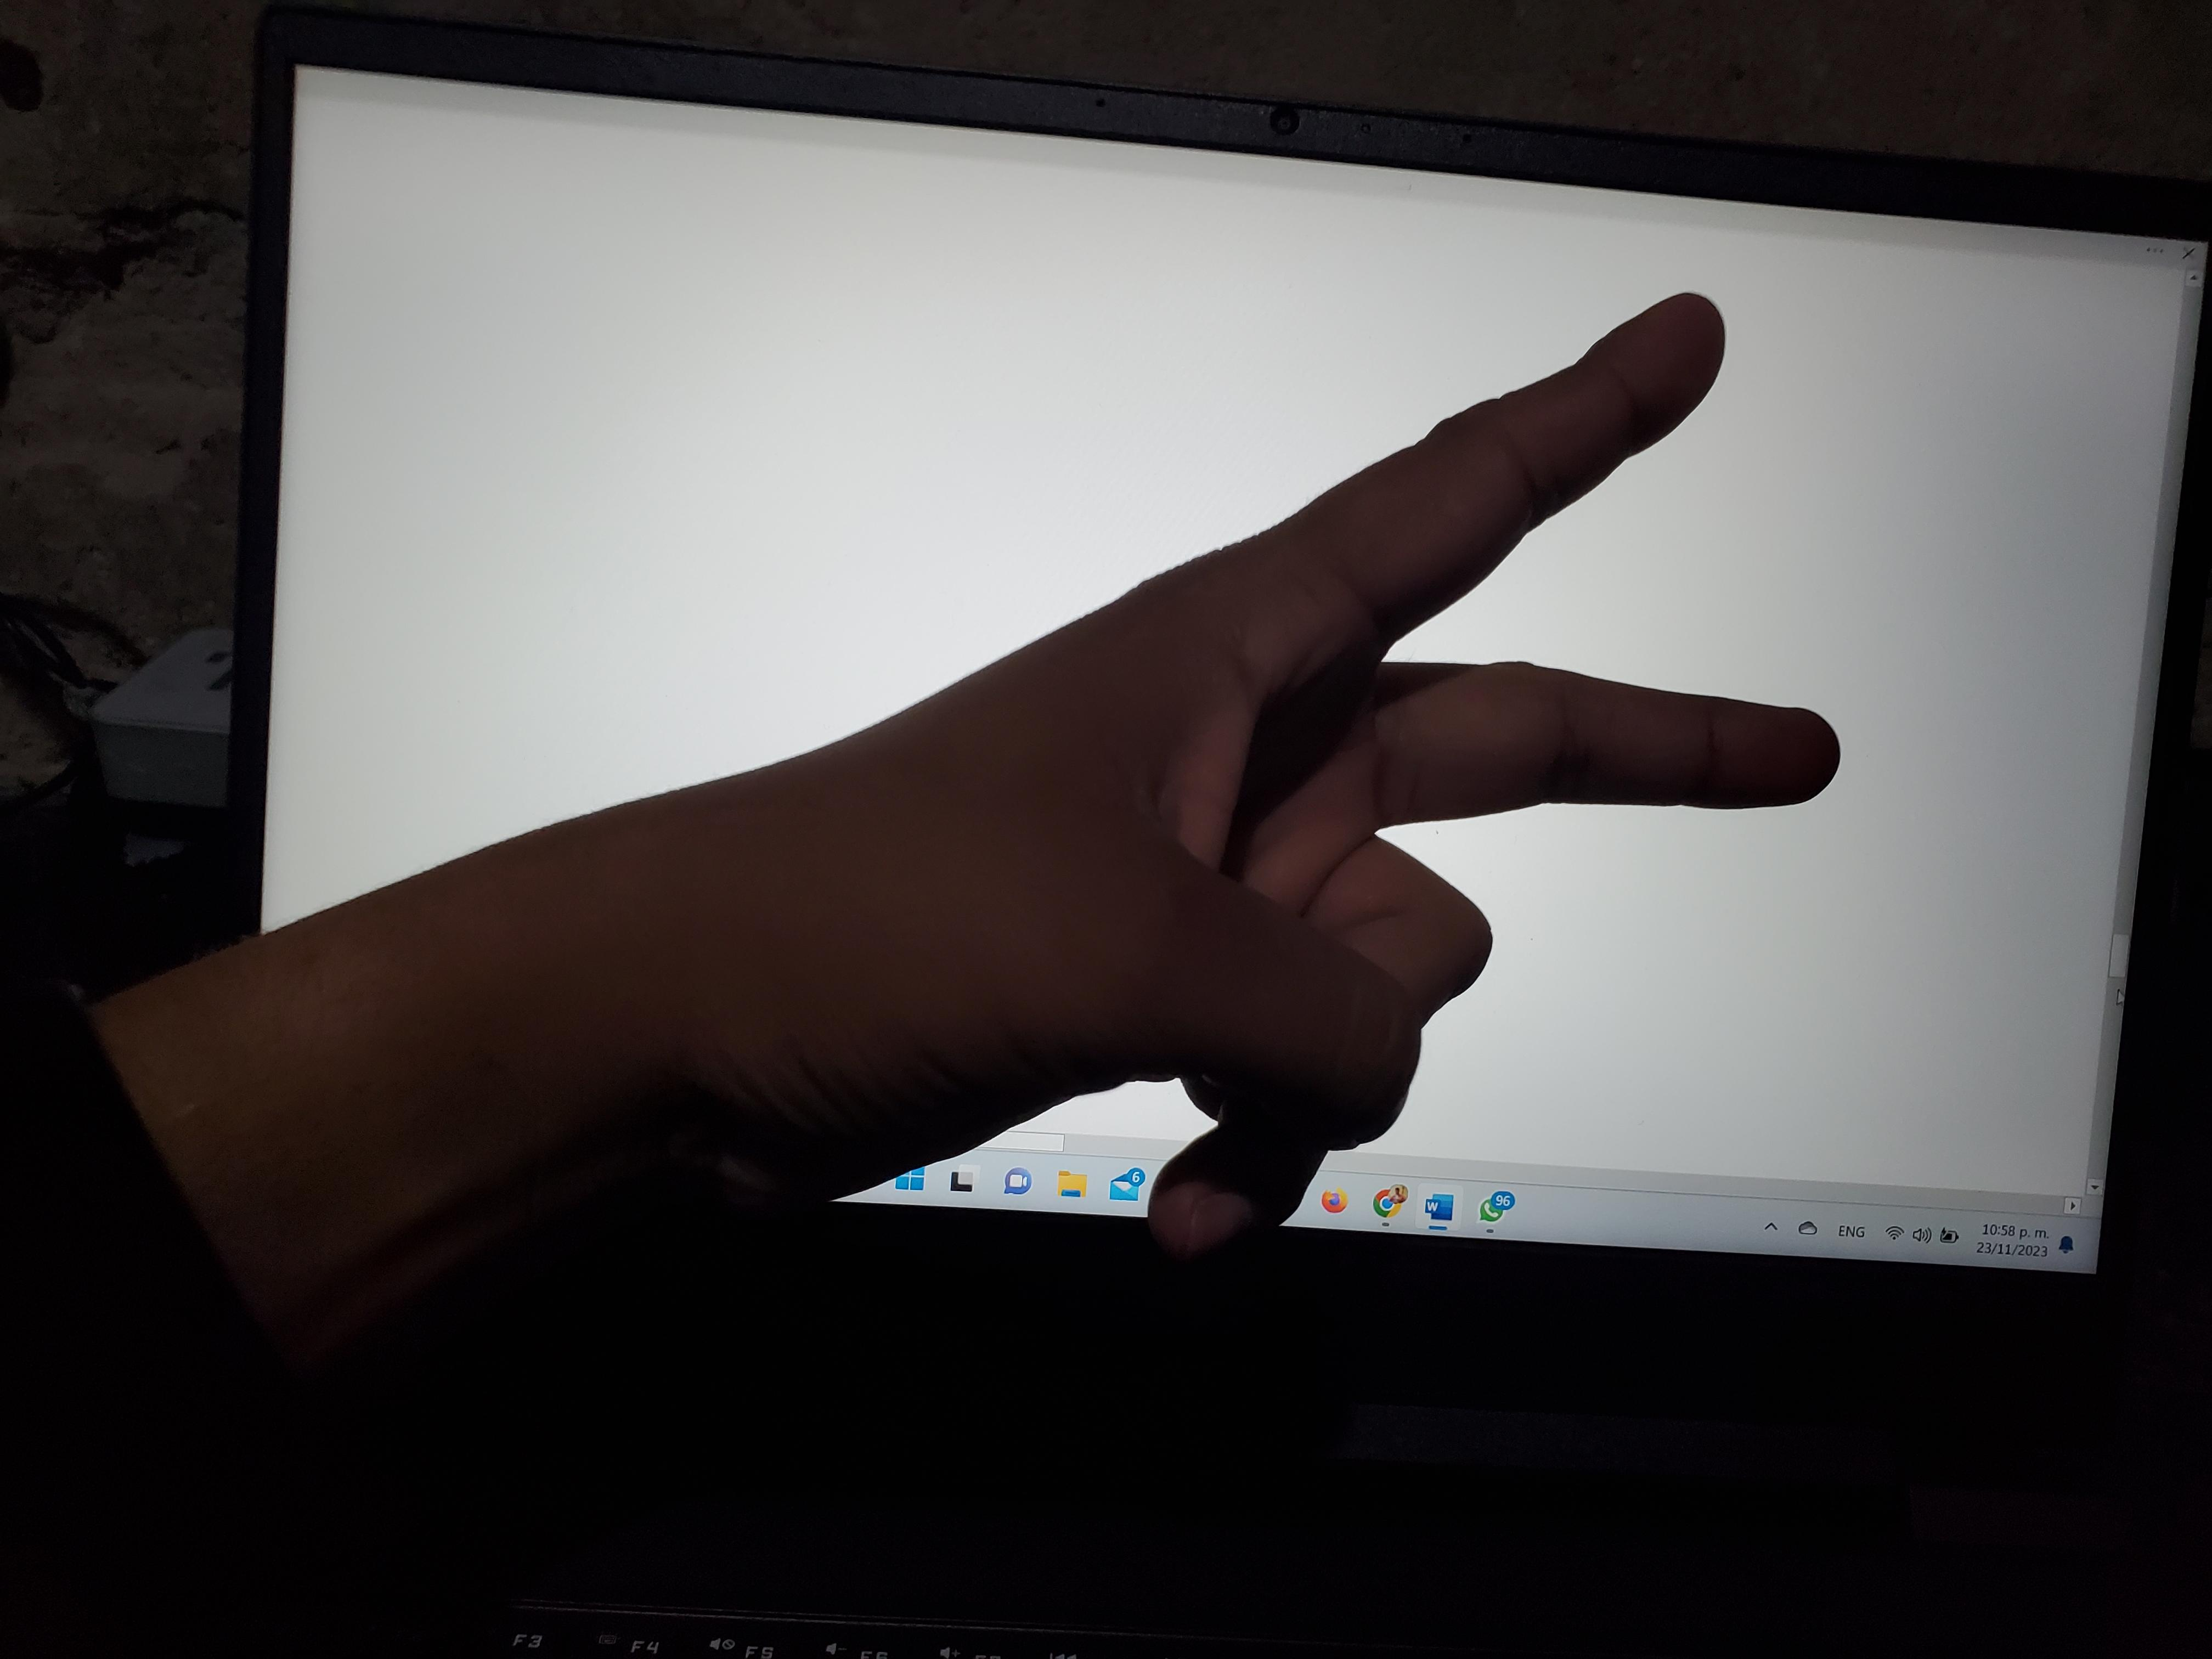Scissor: (133, 182, 2076, 1470)
